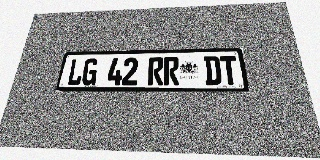2: (122, 57, 139, 85)
4: (107, 58, 124, 85)
D: (204, 56, 222, 85)
G: (81, 58, 99, 85)
L: (66, 58, 85, 85)
R: (148, 57, 163, 85), (164, 57, 179, 85)
T: (220, 56, 239, 85)
